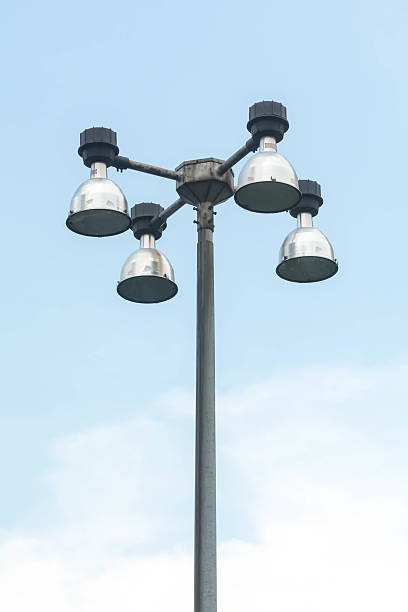light_pole: (190, 222, 224, 612)
